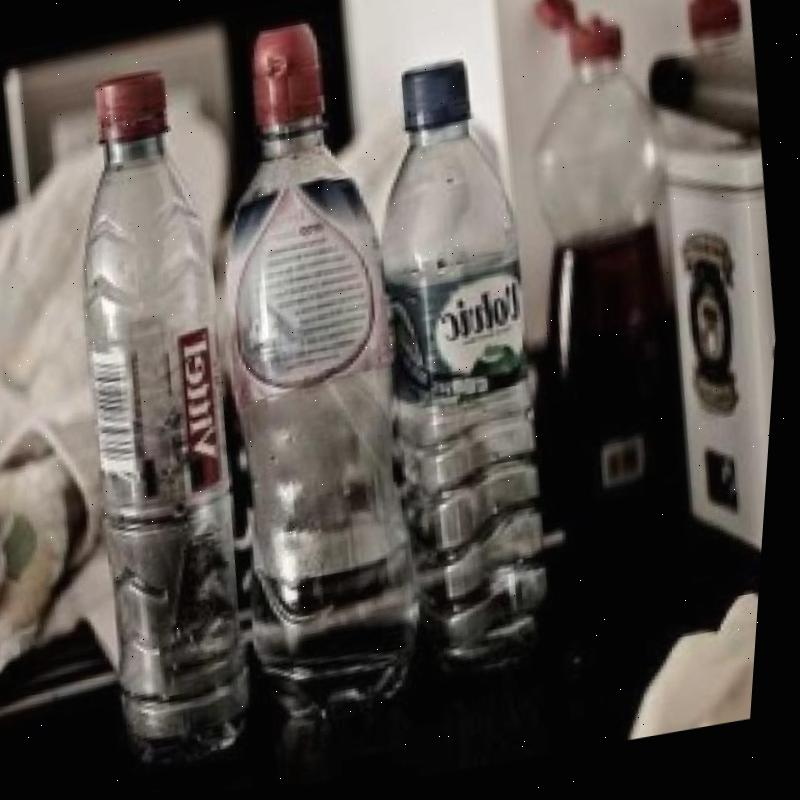botella: (172, 11, 460, 727), (36, 63, 299, 773), (330, 51, 591, 683)
